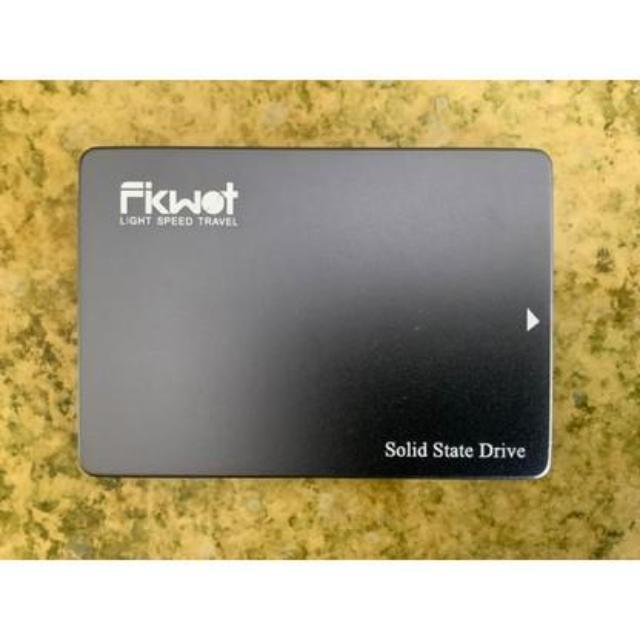DISK: (70, 138, 562, 496)
